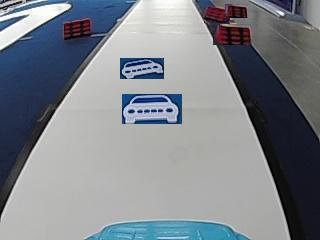bomb: (62, 16, 92, 38)
